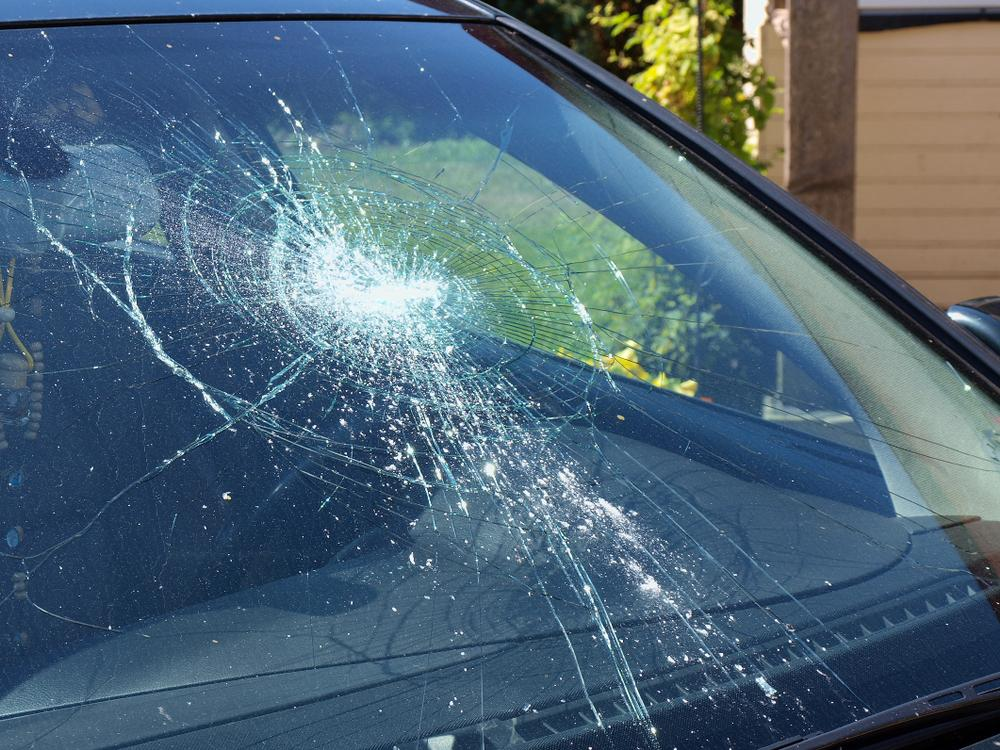glass shatter: (0, 20, 1000, 750)
